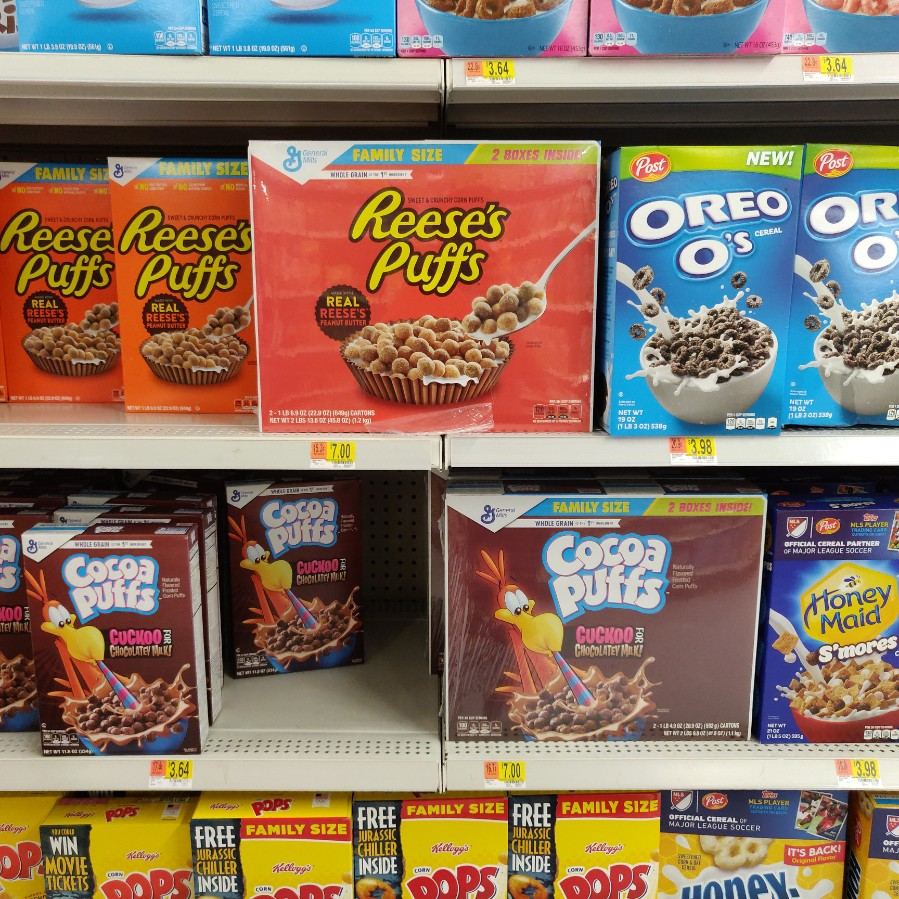Honey Comb- 009288857: (664, 792, 852, 898)
Oreo-563424384: (619, 133, 790, 437), (805, 138, 899, 423)
